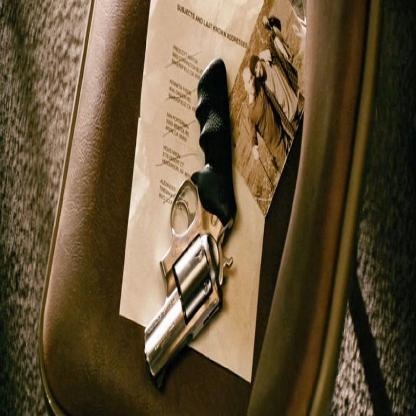gun: (152, 28, 245, 361)
